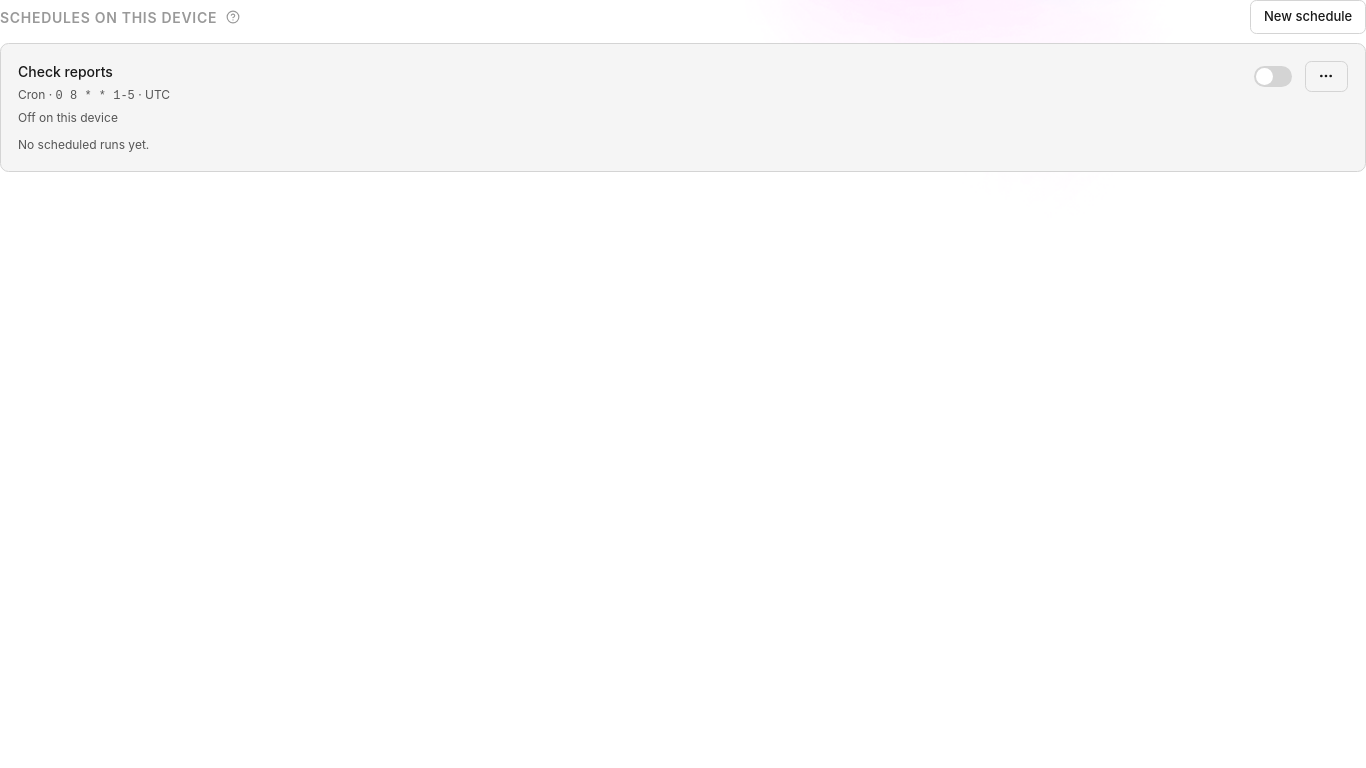
Test case: opens editing through row actions and preserves the stamped review snapshot
Click the button named "Actions for Check reports" at (1326, 76), box [1304, 61, 1348, 92]
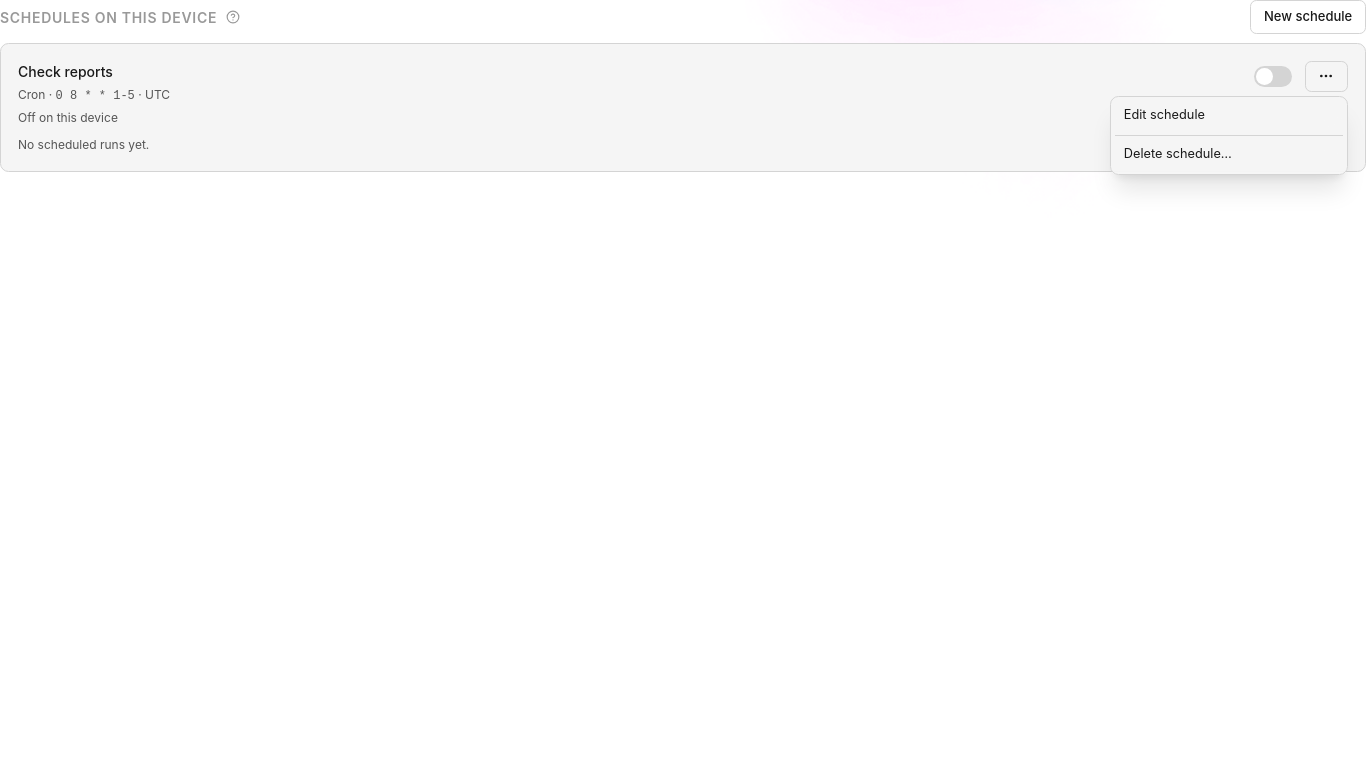
Click the menu item "Edit schedule" at (1229, 116), box [1115, 101, 1343, 130]
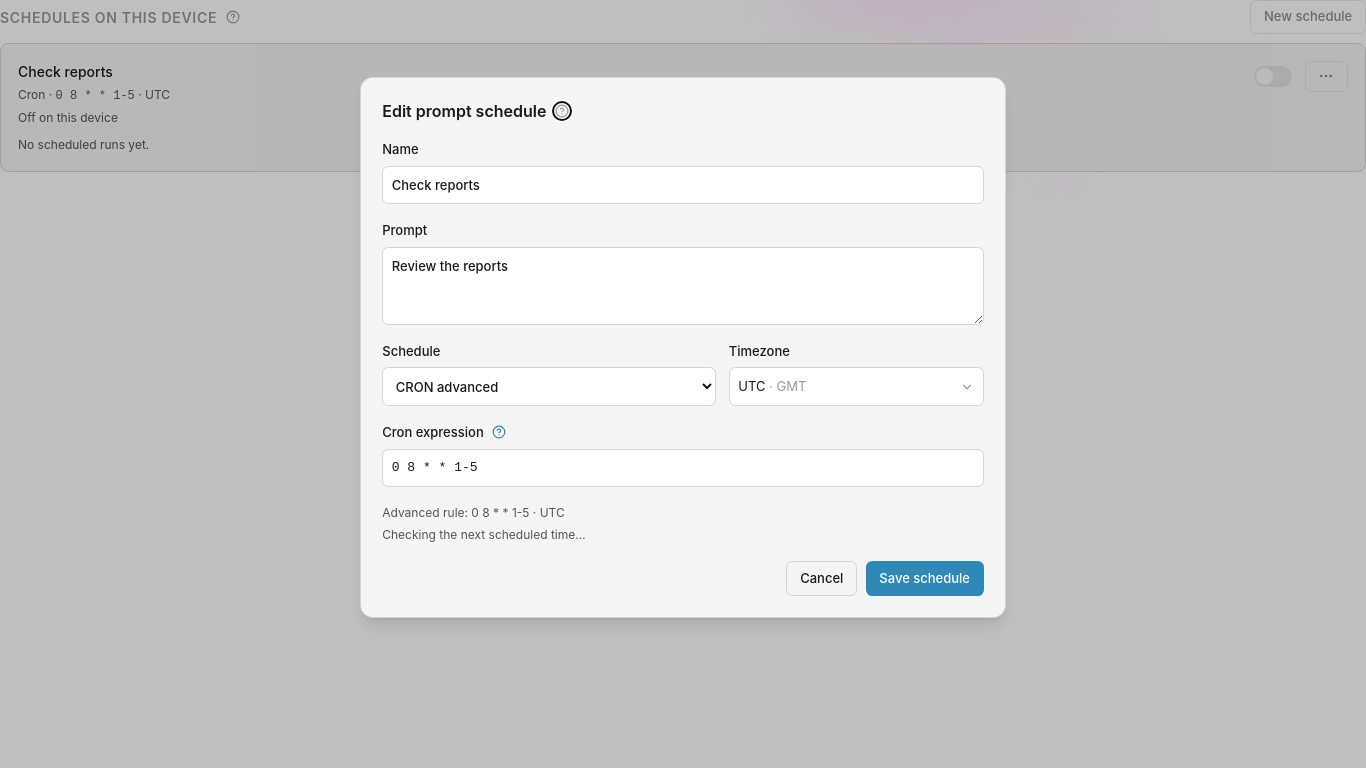
Replace the text in the field labelled "Name" with "Renamed report" at (683, 185), box [382, 166, 984, 204]
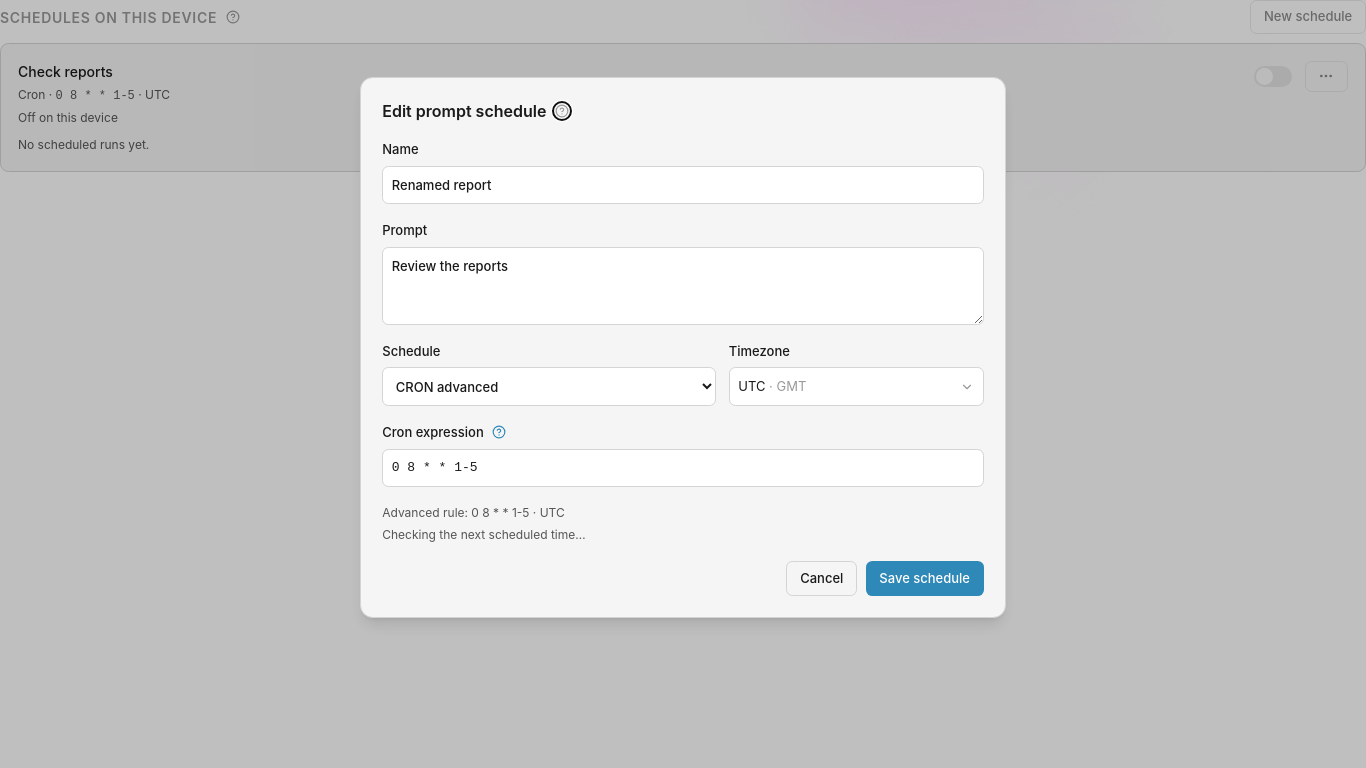
Click the button "Save schedule" at (925, 578), box [866, 561, 984, 596]
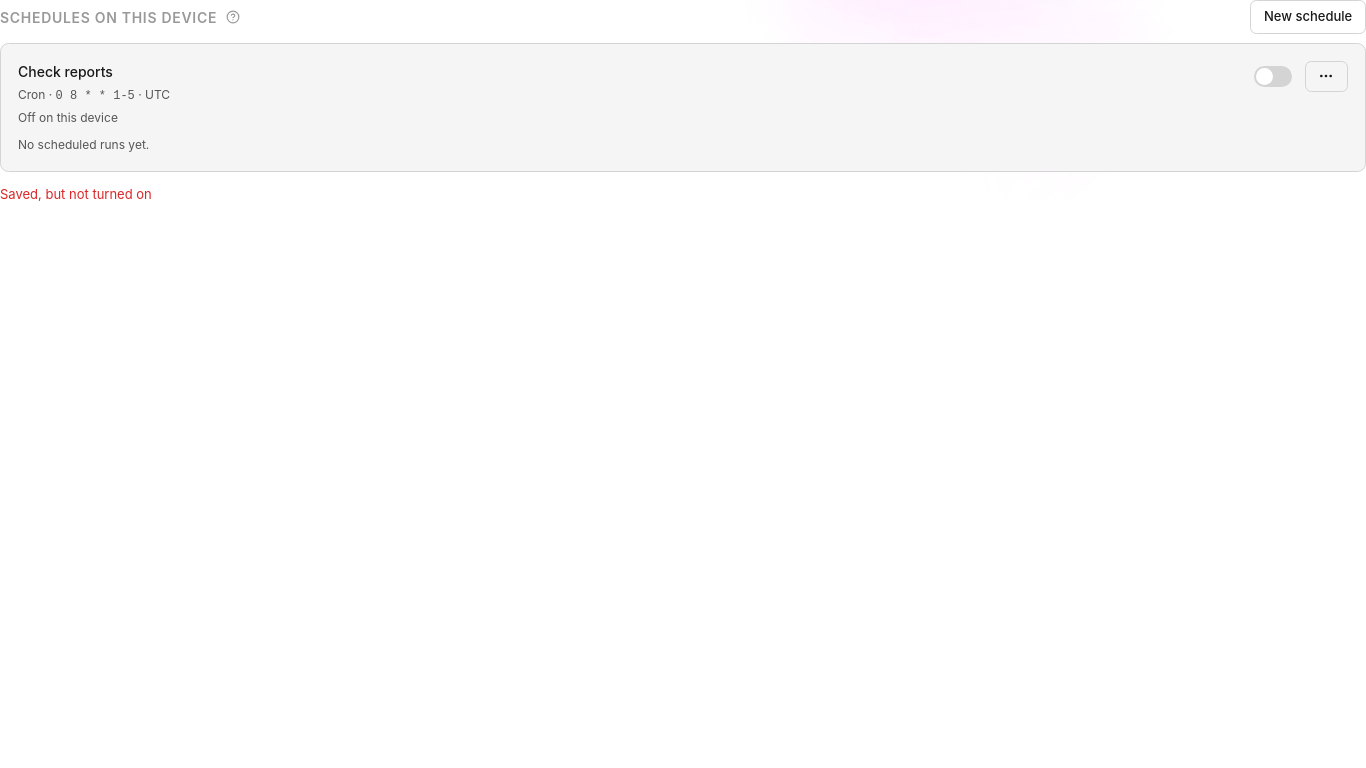
Now the message reads "Saved, but not turned on", box [0, 186, 152, 202]
Now the dialog is gone
